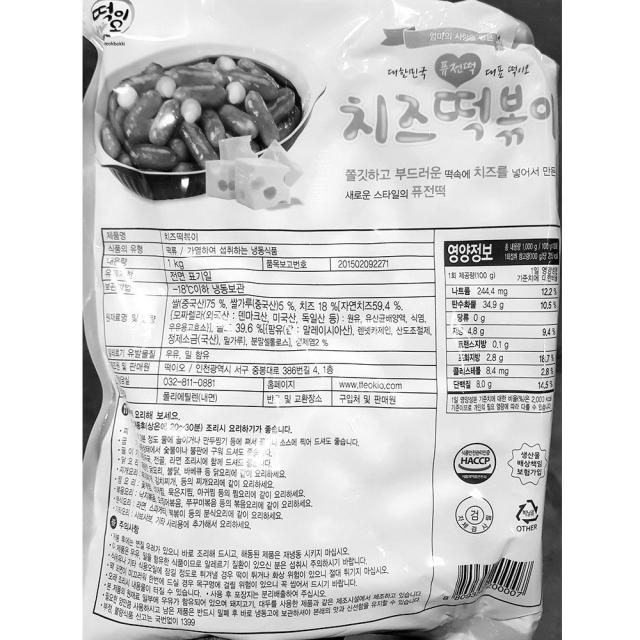Nutrition Label: (446, 235, 563, 412)
